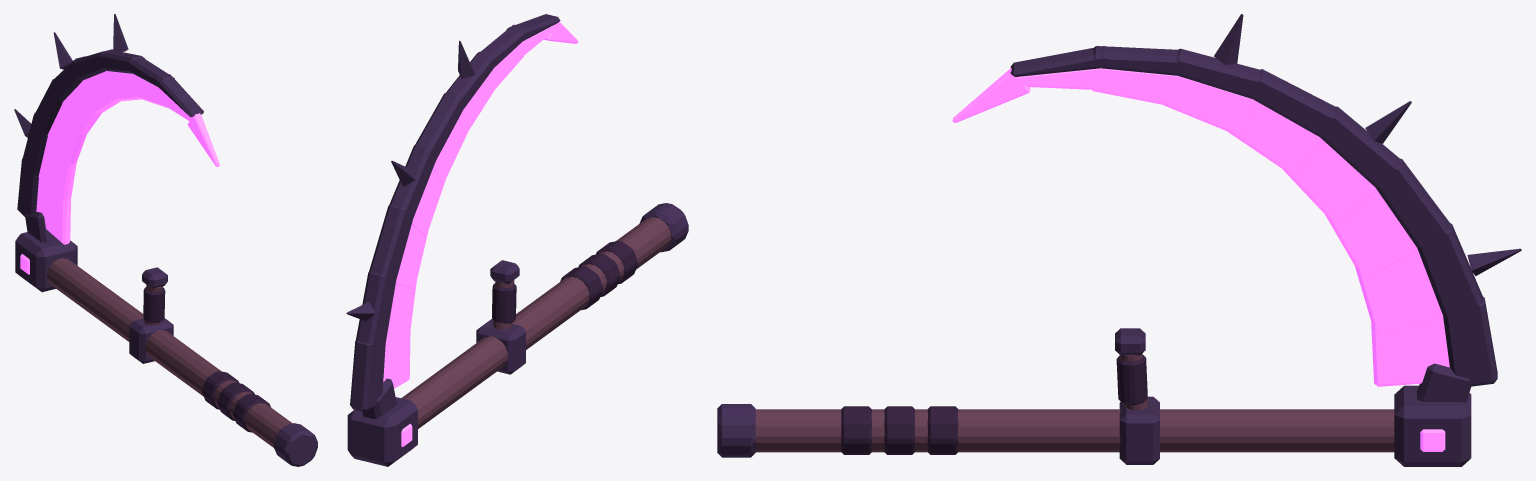
Rendered from tool_scythe.glb.
3 views of the same model, side by side, from view 1: azimuth 30°, elevation 25°; view 2: azimuth 150°, elevation 25°; view 3: azimuth 270°, elevation 25° (orthographic). The views are drawn at different scales.
Visible parts, largest first — view 1: Metal__422C56, Neon__BA54FF, Wood__683E54, Fabric__341E3E; view 2: Metal__422C56, Wood__683E54, Neon__BA54FF, Fabric__341E3E; view 3: Metal__422C56, Neon__BA54FF, Wood__683E54, Fabric__341E3E.
Part boxes in pixels (x1,y1,x2,y2): Metal__422C56: (14,14,317,466); Neon__BA54FF: (20,71,219,274); Wood__683E54: (47,258,291,447); Fabric__341E3E: (143,287,270,432); Metal__422C56: (346,14,688,466); Wood__683E54: (401,217,671,428); Neon__BA54FF: (383,22,578,447); Fabric__341E3E: (492,241,637,323); Metal__422C56: (717,14,1521,466); Neon__BA54FF: (952,68,1449,451); Wood__683E54: (755,353,1394,452); Fabric__341E3E: (841,355,1147,454).
Size of the model in its own units: 0.76 by 5.08 by 8.37.
